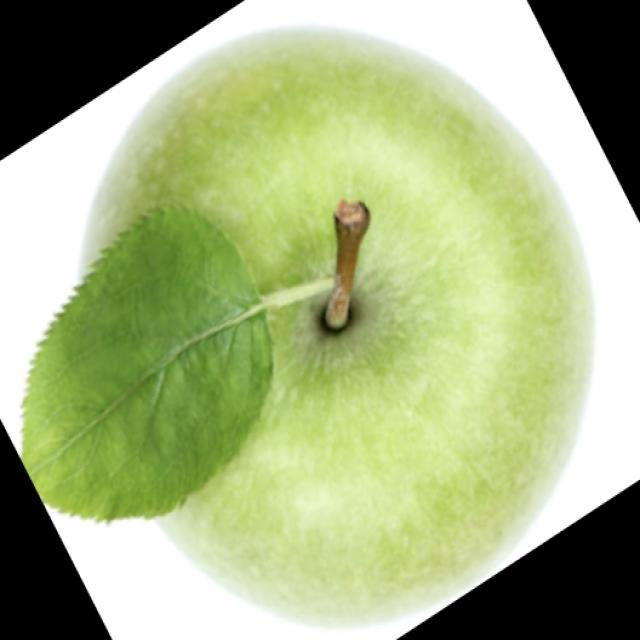Fresh Apple: (113, 41, 592, 582)
